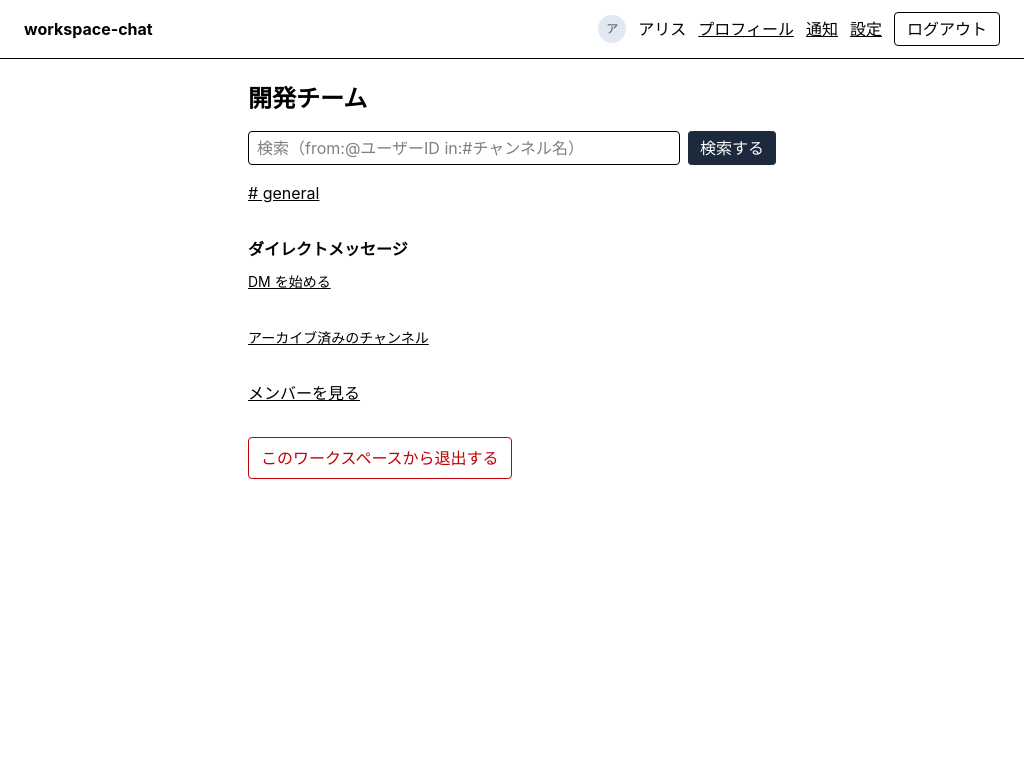
Test: DM の一覧（F-19） › 始めるのを断られたら、理由を出して画面に留まる
The image size is (1024, 768).
Click the button "DM を始める" at (289, 282), box left=248, top=272, right=331, bottom=292
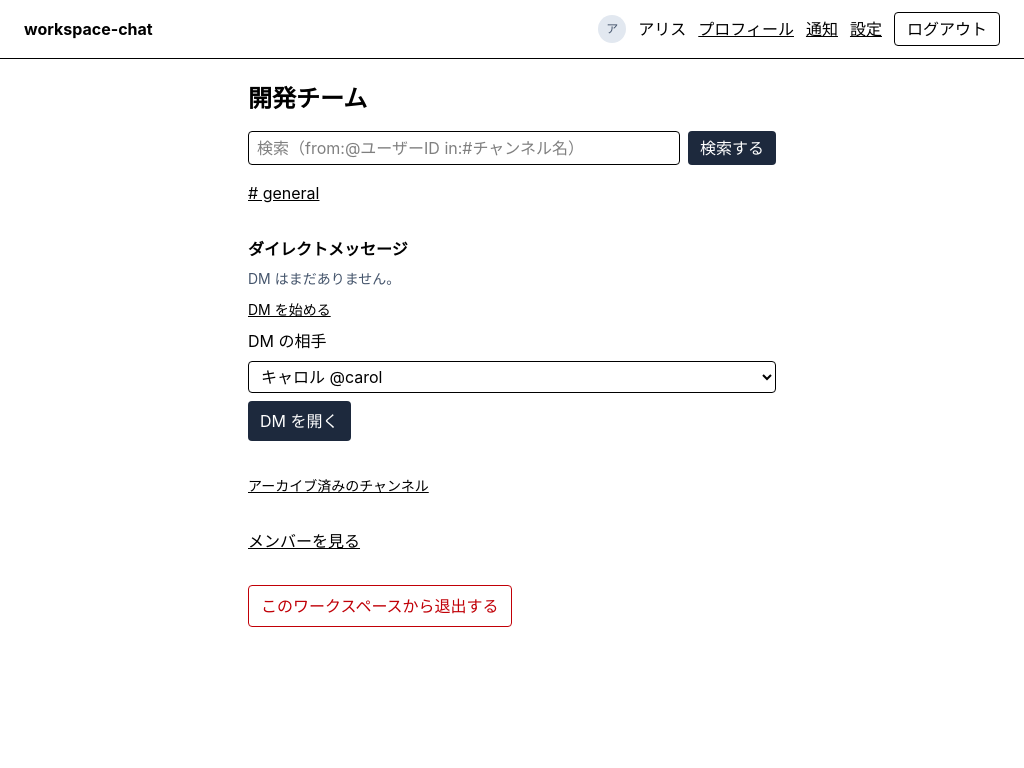
Select "キャロル @carol" in the dropdown labelled "DM の相手" at (512, 377), box left=248, top=361, right=776, bottom=393
Click the button "DM を開く" at (299, 421), box left=248, top=401, right=350, bottom=441
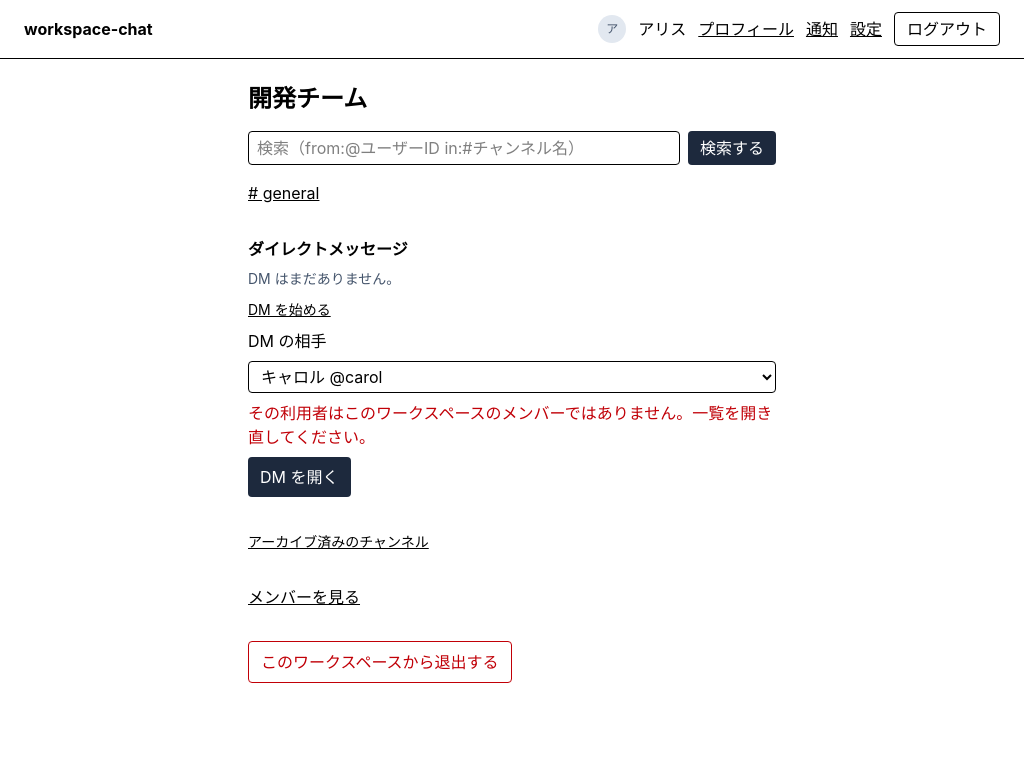
Expected: the message shows "その利用者はこのワークスペースのメンバーではありません", left=248, top=403, right=772, bottom=447
